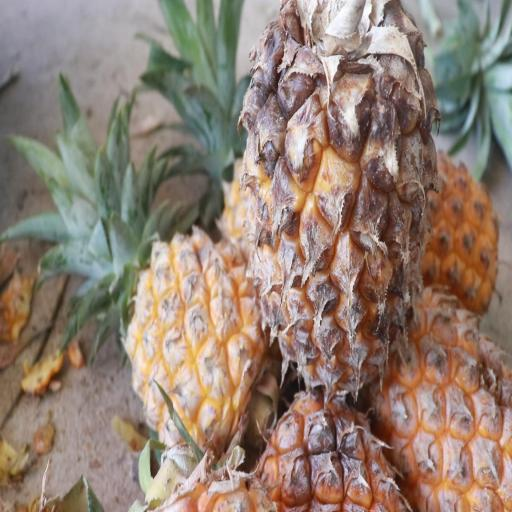Pineapple - v8 v1: (240, 0, 443, 393), (128, 99, 296, 427), (373, 270, 512, 507)
